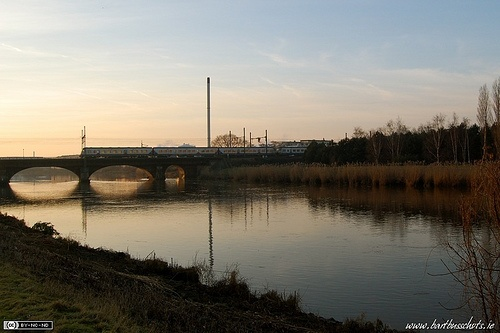train: (80, 143, 397, 300)
